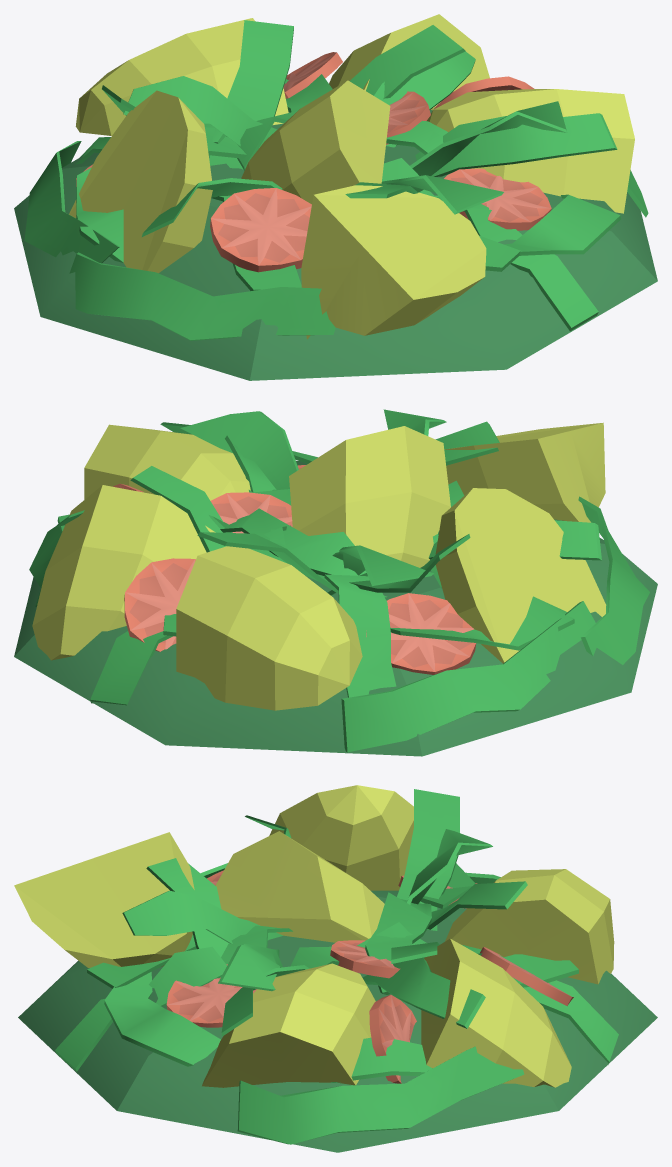
The model's file is PotatoSalad1.fbx.
3 renders of one model, top to bottom at view 1: azimuth 30°, elevation 25°; view 2: azimuth 150°, elevation 25°; view 3: azimuth 270°, elevation 25°, orthographic. The views are drawn at different scales.
Visible parts, largest first — view 1: PotatoSalad; view 2: PotatoSalad; view 3: PotatoSalad.
Boxes of the visible parts, left/top/right/bottom form: PotatoSalad: left=14, top=14, right=657, bottom=380; PotatoSalad: left=14, top=409, right=657, bottom=756; PotatoSalad: left=14, top=785, right=657, bottom=1152.
Bounding box in the file's own units: 3.71 × 1.1 × 3.73.
